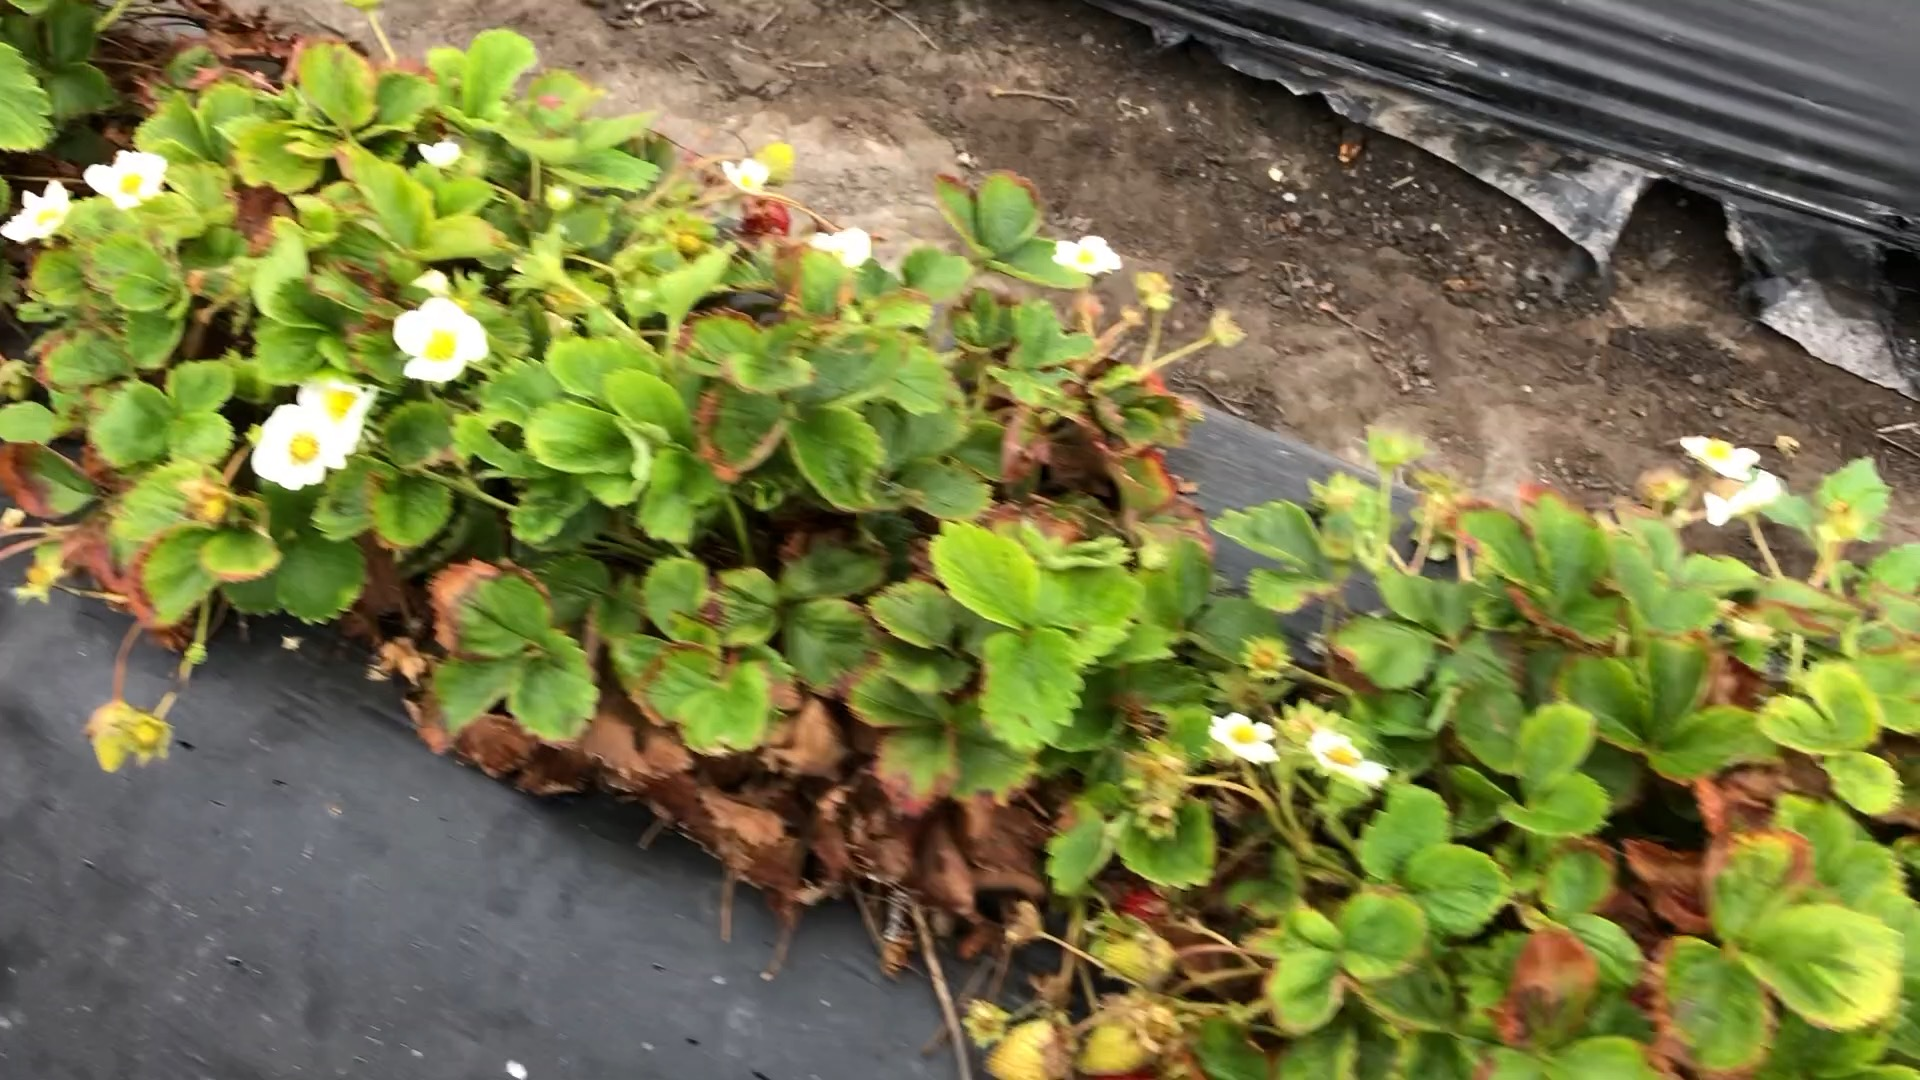ripe_strawberry: (735, 195, 795, 241)
unripe_strawberry: (978, 1011, 1075, 1080), (1073, 1011, 1160, 1080), (1087, 930, 1168, 994), (90, 698, 140, 778), (748, 138, 802, 189)
